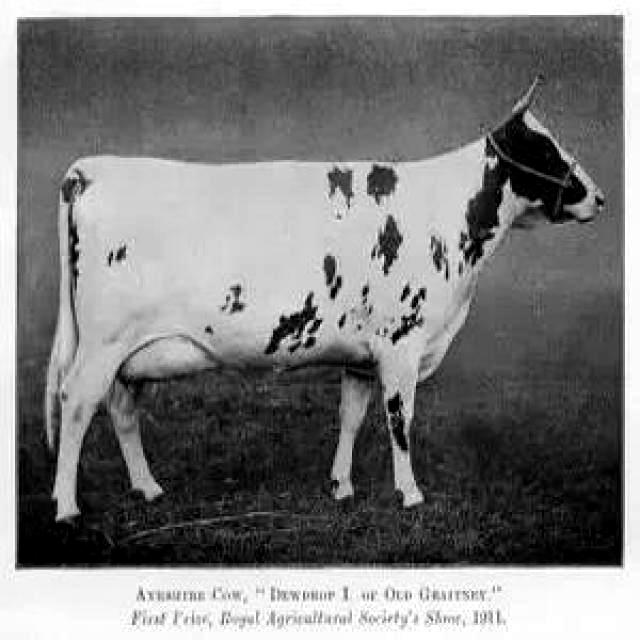COW: (46, 81, 604, 521)
